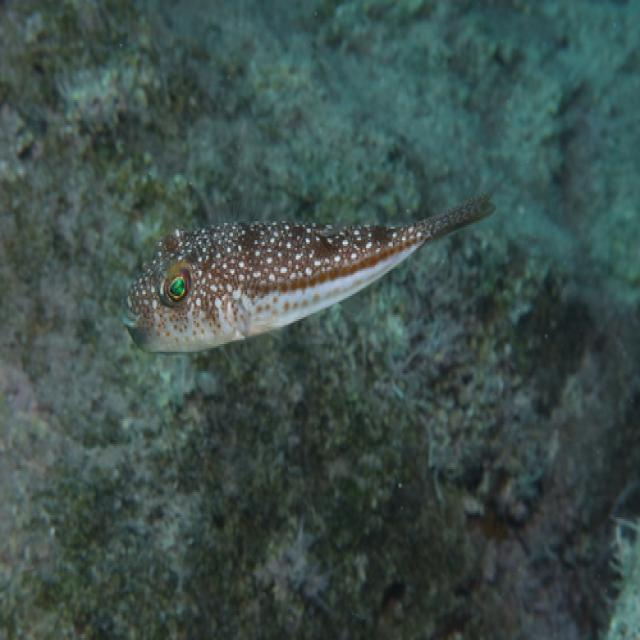Balik: (123, 195, 494, 351)
